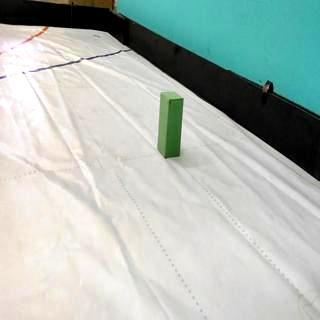greenbox: (156, 90, 185, 158)
